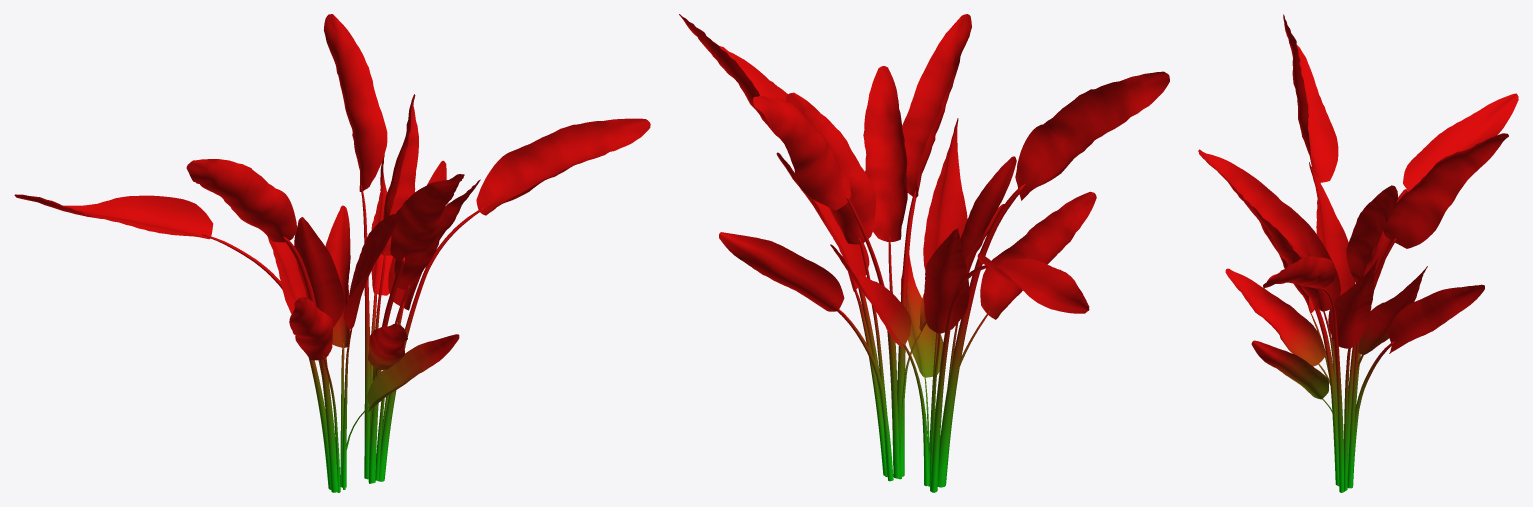
The model's file is Var9_LOD0.fbx.
3 renders of one model, left to right at view 1: azimuth 30°, elevation 25°; view 2: azimuth 150°, elevation 25°; view 3: azimuth 270°, elevation 25°, orthographic. The views are drawn at different scales.
Visible parts, largest first — view 1: _070g_Var9_LOD0; view 2: _070g_Var9_LOD0; view 3: _070g_Var9_LOD0.
Boxes of the visible parts, bbox=[...] form: _070g_Var9_LOD0: bbox=[14, 14, 650, 492]; _070g_Var9_LOD0: bbox=[679, 14, 1169, 492]; _070g_Var9_LOD0: bbox=[1198, 14, 1518, 492].
Bounding box in the file's own units: 173 × 130 × 100.
